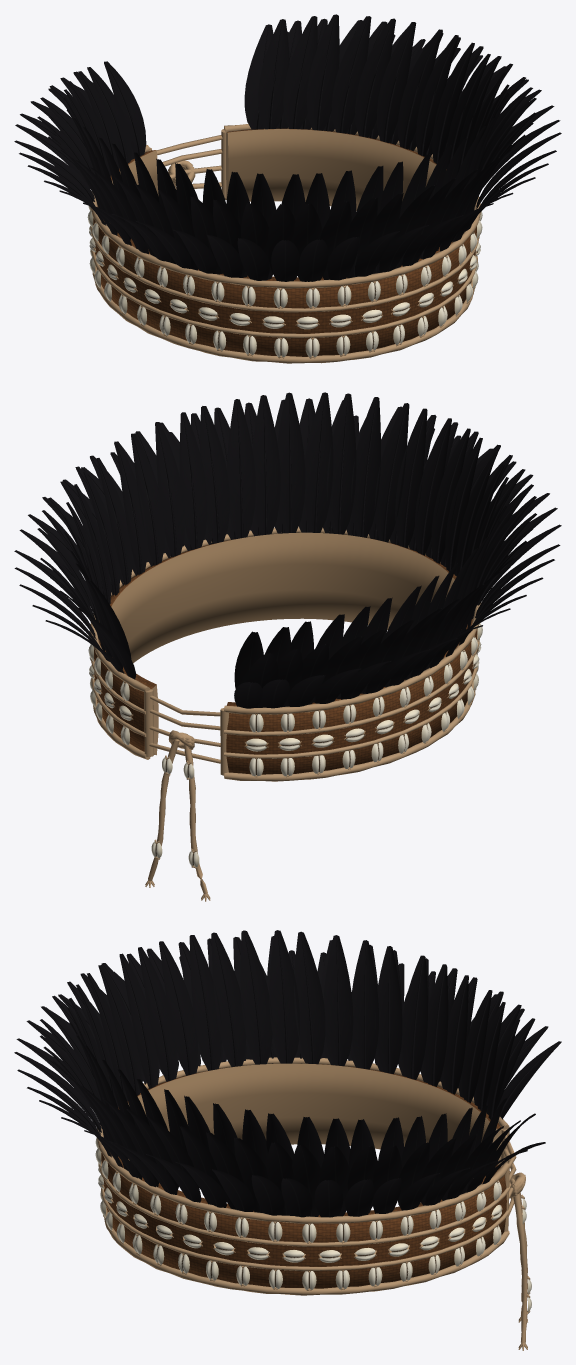
Rendered from 10_Papua_Female_Crown.fbx.
The picture shows the model from 3 angles, top to bottom: view 1: azimuth 30°, elevation 25°; view 2: azimuth 150°, elevation 25°; view 3: azimuth 270°, elevation 25°; orthographic projection.
Parts seen in each view (by area): view 1: Papuan_Female_Crown; view 2: Papuan_Female_Crown; view 3: Papuan_Female_Crown.
Part boxes in pixels (x1,y1,x2,y2): Papuan_Female_Crown: (14,14,561,363); Papuan_Female_Crown: (14,392,561,901); Papuan_Female_Crown: (14,930,561,1350).
Bounding box in the file's own units: 173 × 115 × 175.
